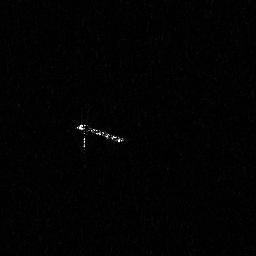ship: (75, 121, 126, 153)
